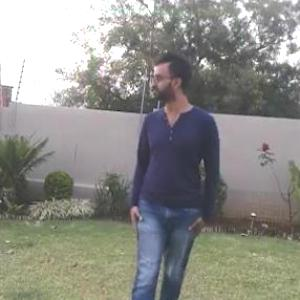follow: (118, 42, 222, 299)
